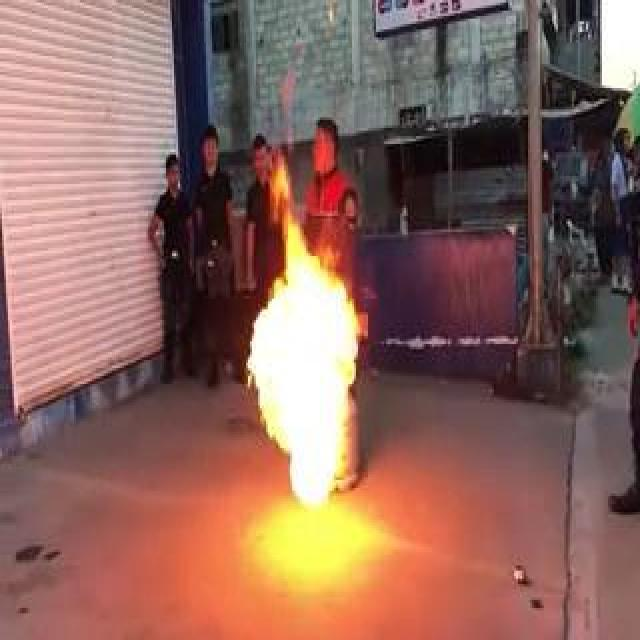Fire: (242, 208, 362, 507)
